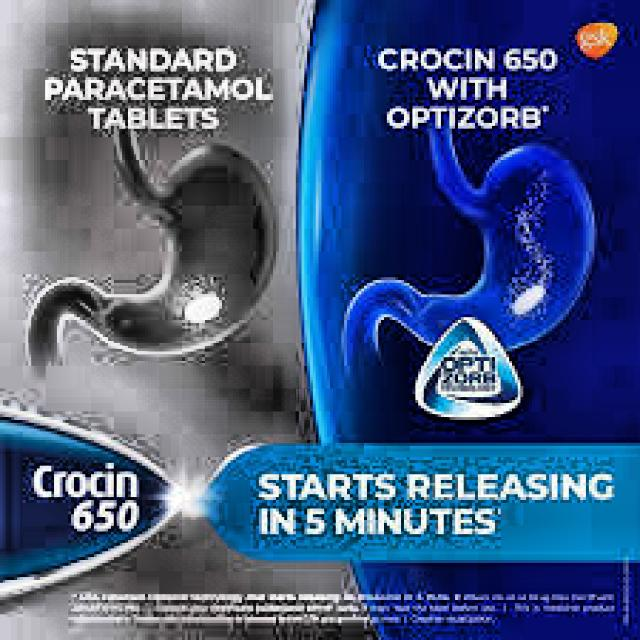Crocin: (5, 411, 164, 568)
